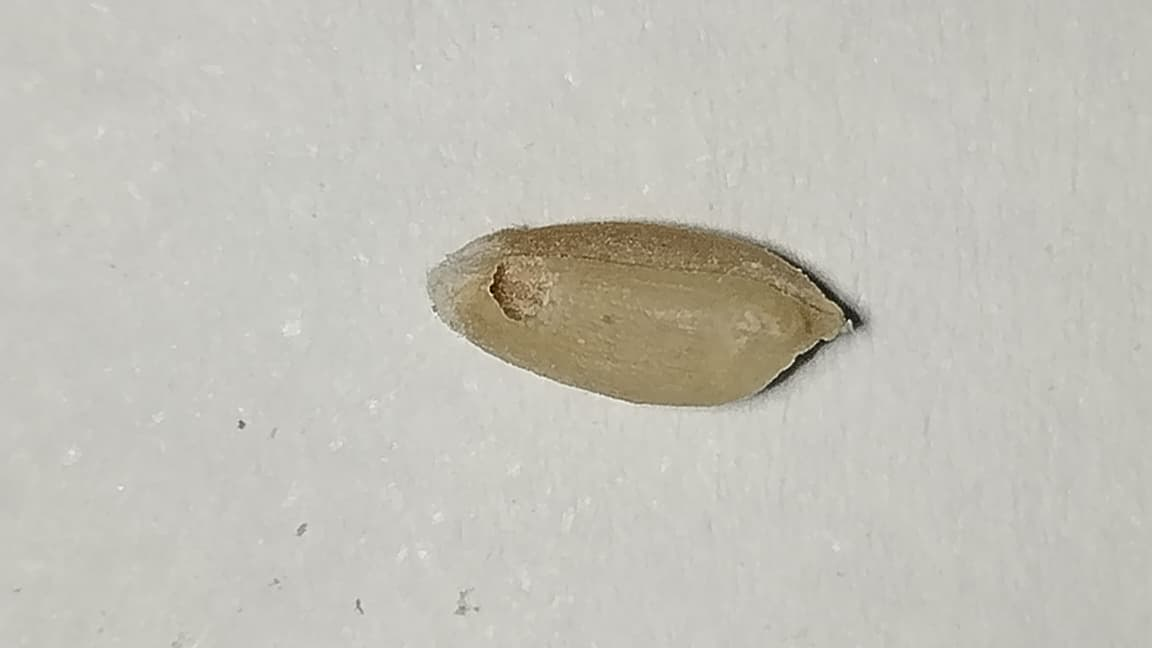damage: (426, 220, 864, 411)
insectdamage: (485, 228, 562, 344)
